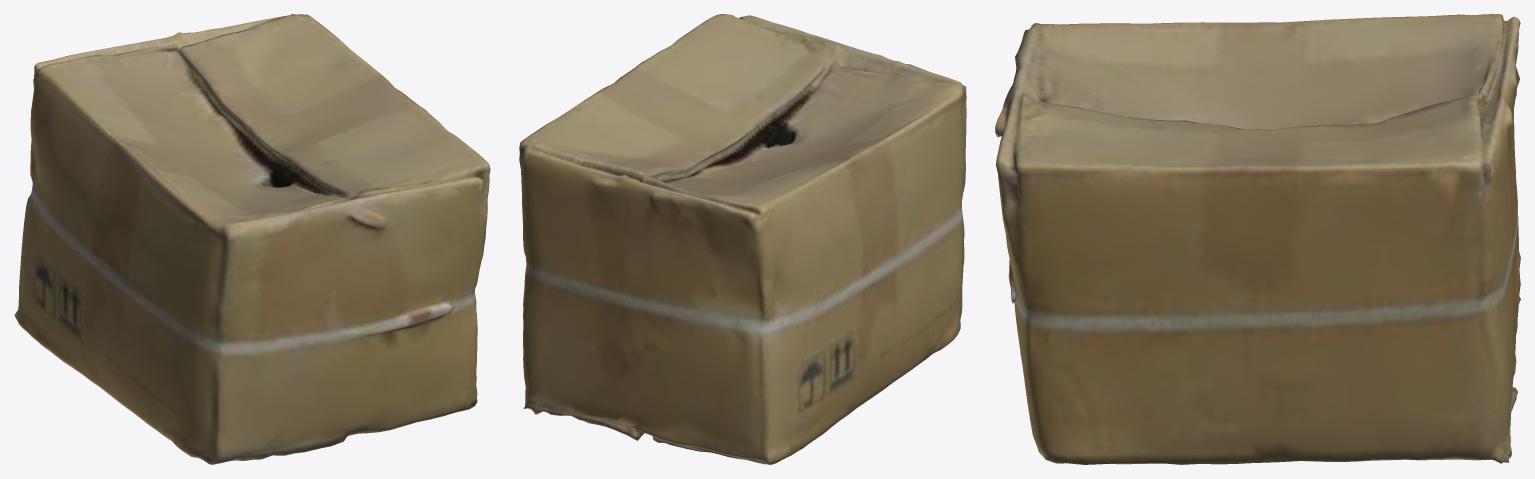
File: cardboard_box_01.glb
3 views of the same model, side by side, from view 1: azimuth 30°, elevation 25°; view 2: azimuth 150°, elevation 25°; view 3: azimuth 270°, elevation 25° (orthographic). The views are drawn at different scales.
Visible parts, largest first — view 1: cardboard_box_01; view 2: cardboard_box_01; view 3: cardboard_box_01.
Boxes of the visible parts, box(x1,y1,x2,y2) form: cardboard_box_01: box(14, 14, 490, 464); cardboard_box_01: box(519, 14, 966, 464); cardboard_box_01: box(995, 14, 1520, 464).
Bounding box in the file's own units: 0.387 × 0.3418 × 0.5159.
Materials: 1 (1 with a texture image).
